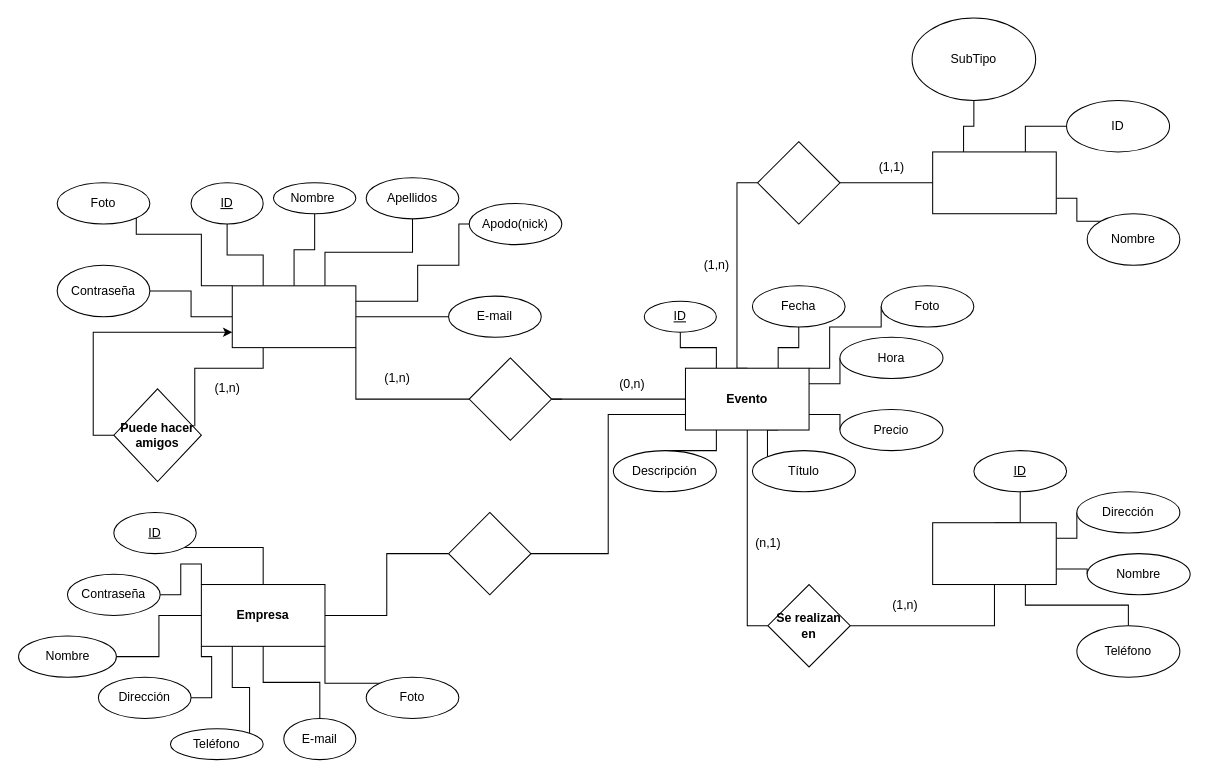
Some shapes in this 1208 by 778 pixel diagram are drawn without their labels. Here are the shapes that lost their labels. From the top down, the centre of each, then its label:
(798,182): Tiene
(994,182): Categoria
(293,316): Usuario
(510,398): Consulta
(489,553): Crea
(994,553): Lugar
